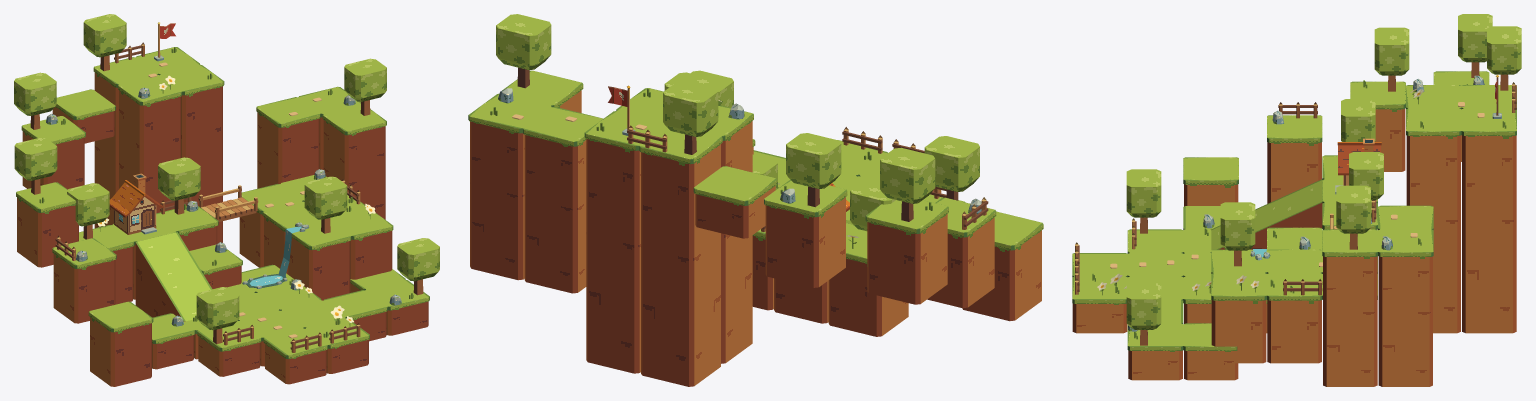
File: garden.glb
3 views of the same model, side by side, from view 1: azimuth 30°, elevation 25°; view 2: azimuth 150°, elevation 25°; view 3: azimuth 270°, elevation 25° (orthographic). The views are drawn at different scales.
Parts seen in each view (by area): view 1: Chunky sandstone (×23), Thick turf (×33), Leaf crown (×9), Earth slope (×2), Plaster and timber, Flared tiled roof; view 2: Chunky sandstone (×13), Thick turf (×14), Leaf crown (×8); view 3: Chunky sandstone (×13), Thick turf (×31), Leaf crown (×9), Earth slope (×2), Flared tiled roof.
Boxes of the visible parts, left/top/right/bottom form: Chunky sandstone (×23): left=17, top=72, right=428, bottom=386; Thick turf (×33): left=16, top=47, right=429, bottom=359; Leaf crown (×9): left=14, top=14, right=439, bottom=330; Earth slope (×2): left=135, top=232, right=210, bottom=321; Plaster and timber: left=114, top=197, right=156, bottom=234; Flared tiled roof: left=109, top=182, right=163, bottom=217; Chunky sandstone (×13): left=470, top=121, right=1041, bottom=386; Thick turf (×14): left=468, top=70, right=1043, bottom=263; Leaf crown (×8): left=496, top=14, right=979, bottom=231; Chunky sandstone (×13): left=1072, top=109, right=1516, bottom=386; Thick turf (×31): left=1072, top=71, right=1516, bottom=350; Leaf crown (×9): left=1126, top=14, right=1521, bottom=329; Earth slope (×2): left=1211, top=180, right=1322, bottom=250; Flared tiled roof: left=1338, top=145, right=1380, bottom=175.
Bounding box in the file's own units: 393 × 251 × 388.
2 materials, 2 textured.
